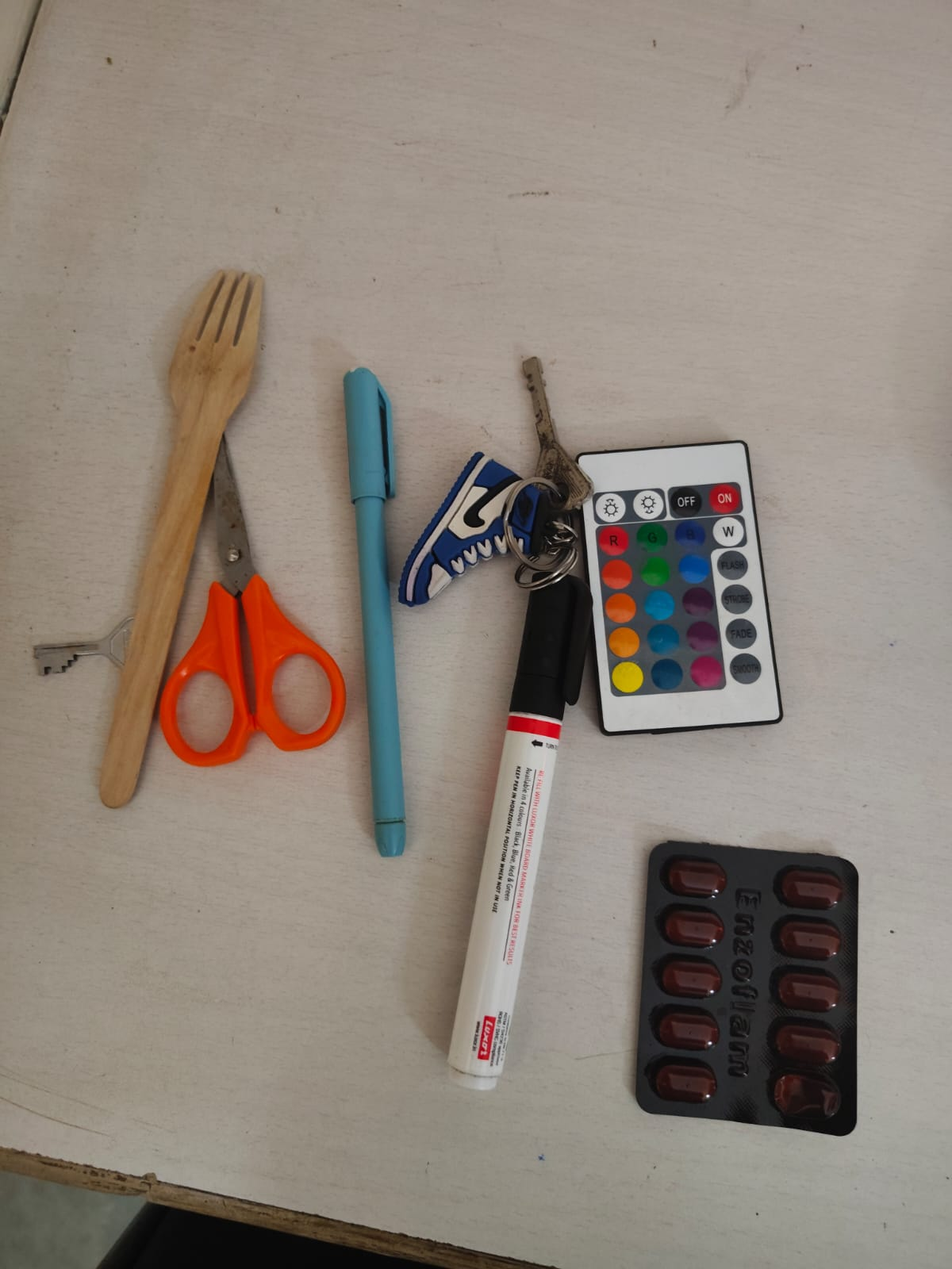case: (427, 574, 593, 1087)
pen: (336, 374, 410, 854)
